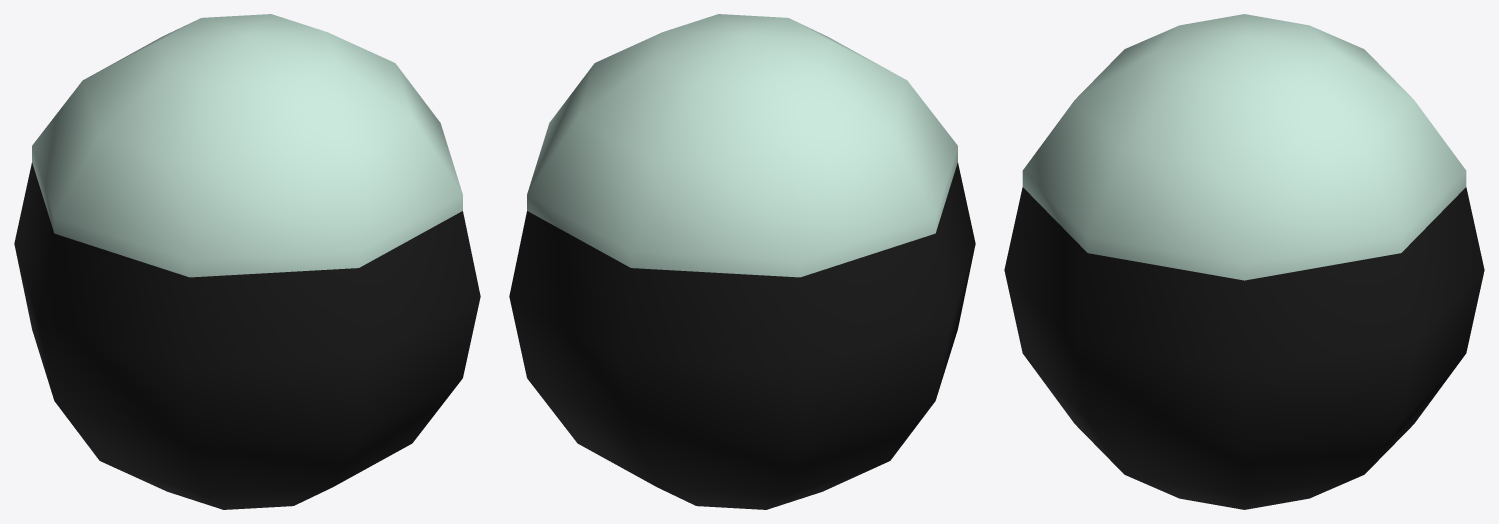
File: winter-cannon-ball-v2.glb
3 renders of one model, left to right at view 1: azimuth 30°, elevation 25°; view 2: azimuth 150°, elevation 25°; view 3: azimuth 270°, elevation 25°, orthographic.
Visible parts, largest first — view 1: WinterCannonBall_v2; view 2: WinterCannonBall_v2; view 3: WinterCannonBall_v2.
Part boxes in pixels (box(x1,y1,x2,y2)): WinterCannonBall_v2: box(14, 14, 480, 509); WinterCannonBall_v2: box(509, 14, 975, 509); WinterCannonBall_v2: box(1004, 14, 1484, 509).
Bounding box in the file's own units: 95.42 × 98.97 × 95.42.
1 material, 1 textured.
